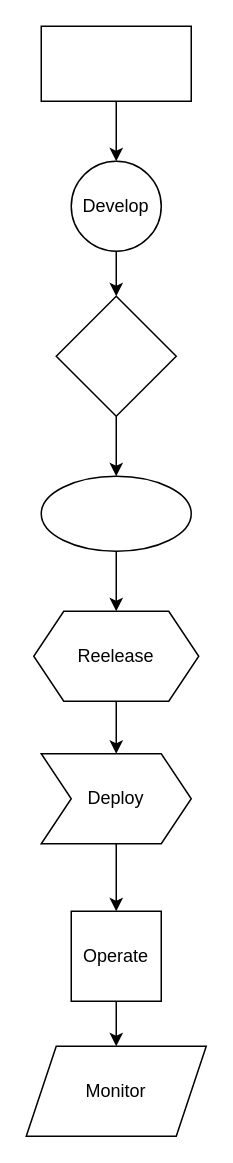
This 233x1163 diagram has some shape labels left out. Here are the shapes that lost their labels. From the top down, the centre of each, then its label:
At (x=115, y=63): "Plan".
At (x=115, y=355): "Build".
At (x=115, y=513): "Test".
